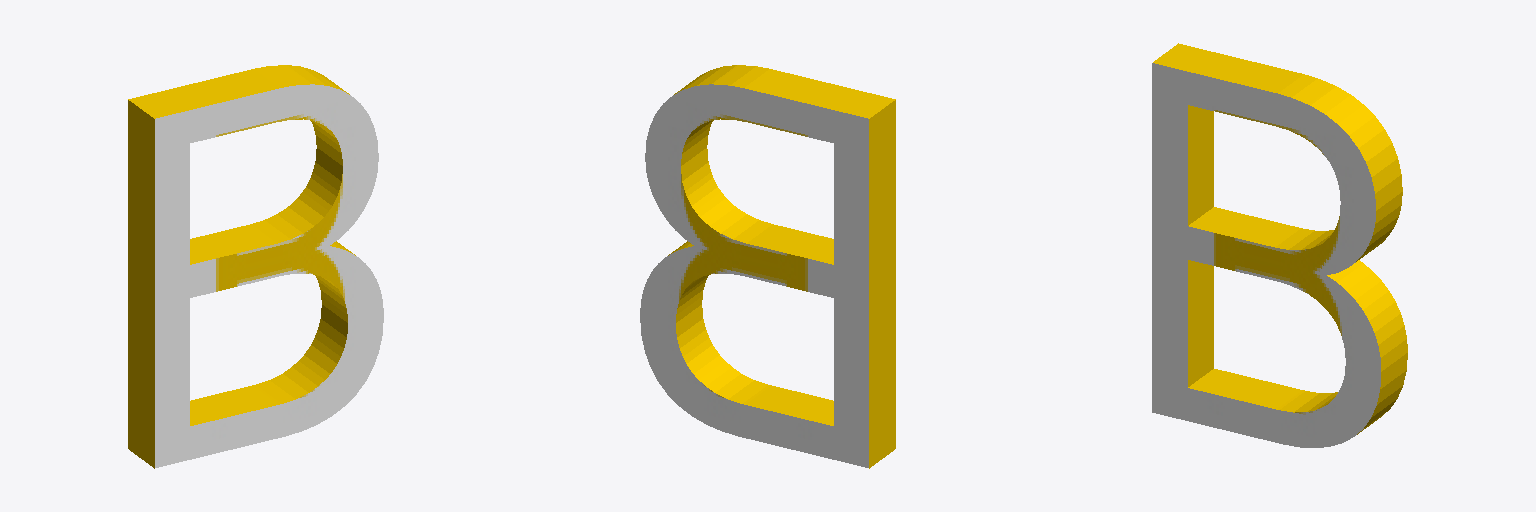
3 renders of one model, left to right at view 1: azimuth 30°, elevation 25°; view 2: azimuth 150°, elevation 25°; view 3: azimuth 330°, elevation 25°, orthographic.
Size of the model in its own units: 55.38 by 80.63 by 11.08.
Materials: 5 (1 with a texture image).